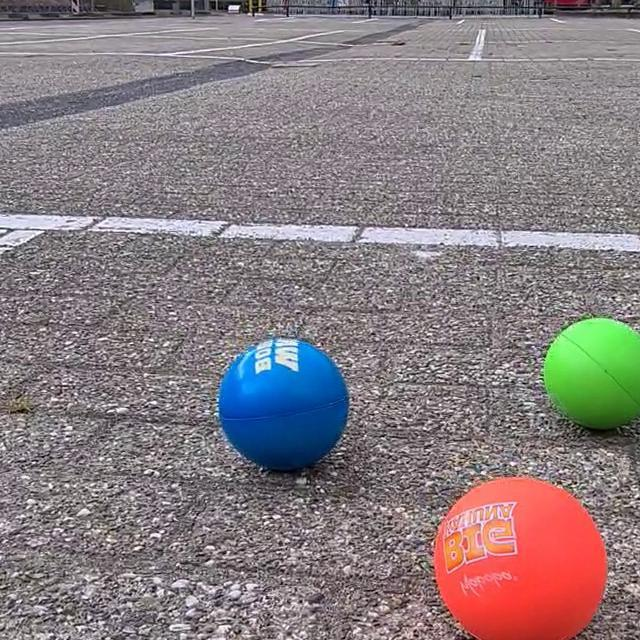ball: (536, 311, 640, 436)
